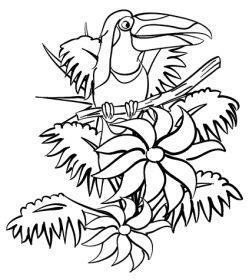bird: (53, 8, 214, 115)
